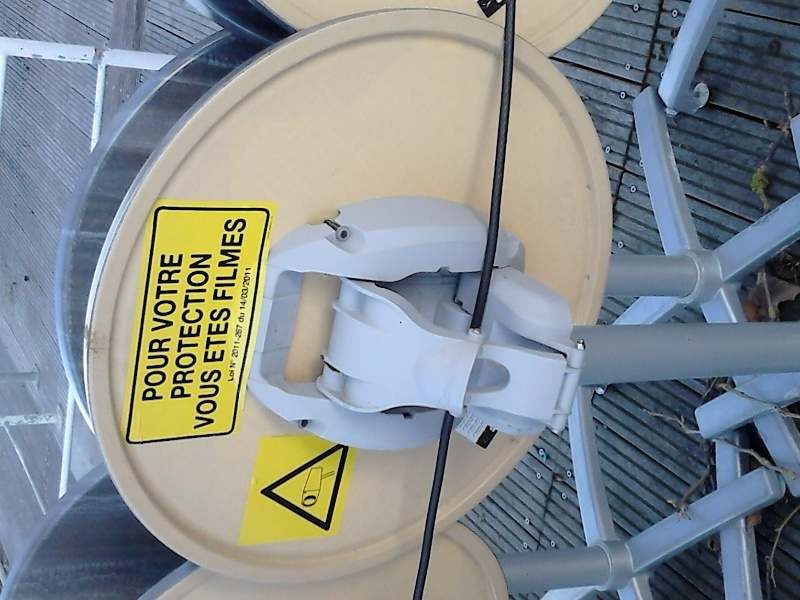text: (193, 251, 208, 400), (161, 252, 176, 333), (226, 217, 240, 302), (209, 369, 223, 429), (210, 306, 224, 365), (161, 338, 173, 403), (149, 338, 160, 403), (177, 252, 185, 333), (209, 251, 213, 400), (241, 217, 248, 302), (245, 266, 256, 311), (201, 369, 208, 429), (225, 306, 232, 365), (229, 369, 240, 383), (236, 324, 240, 359), (241, 324, 245, 359), (241, 311, 248, 324), (230, 359, 240, 368)
